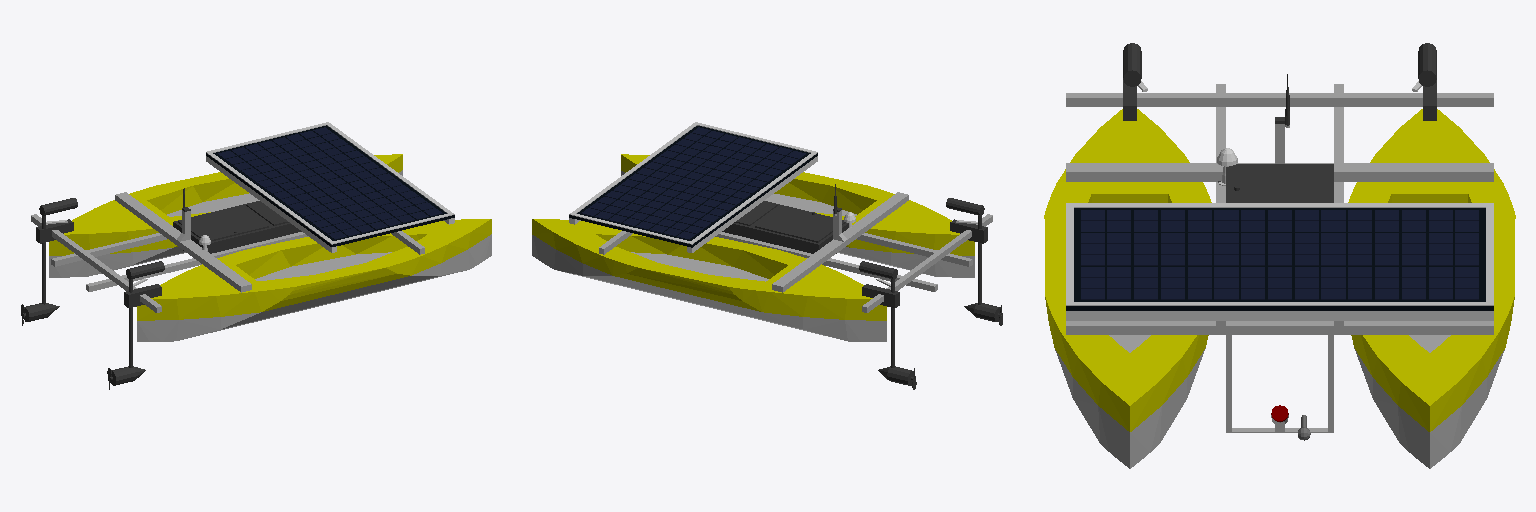
robot.urdf — squirtle:
<?xml version="1.0"?>

<robot name="squirtle">
	
	<!-- <link name="base_station">
		<visual>
			<origin xyz="74 137 5" rpy="0 0 0" />
			<geometry>
				<box size="0.001 0.001 0.001" />
			</geometry>
		</visual>
	</link> -->
	
	<!-- base_footprint is a fictitious link(frame) that is on the ground right below base_link origin, navigation stack depends on this frame -->
	<link name="base_footprint">
		<visual>
			<origin xyz="0 0 0" rpy="0 0 0" />
			<geometry>
				<box size="0.001 0.001 0.001" />
			</geometry>
		</visual>
	</link>
	
	<!-- Links and Joints (i.e., the robot) -->
	<link name="base_link">
		<visual>
			<origin xyz="0 0 0" rpy="0 0 0" />
			<geometry>
				<mesh filename="package://squirtle_description/meshes/squirtle.dae"/>
			</geometry>
		</visual>
	</link>
	
	<joint name="base_footprint_base_link_joint" type="fixed">
		<parent link="base_footprint"/>
		<child link="base_link" />
		<origin xyz="0 0 0" rpy="0 0 0" />
	</joint>
	
 	<link name="left_motor">
		<visual>
			<origin xyz="0 0 0" rpy="0 0 0" />
			<geometry>
				<mesh filename="package://squirtle_description/meshes/left_motor.dae"/>
			</geometry>
		</visual>
	</link>
	
	<!-- left motor joint -->
	<joint name="left_motor_joint" type="continuous">
		<parent link="base_link"/>
		<child link="left_motor"/>
		<origin xyz="-1 0.56 0.31" rpy="0 0 0" />
		<axis xyz="0 0 1" />
	</joint>
        
	<link name="right_motor">
		<visual>
			<origin xyz="0 0 0" rpy="0 0 0" />
			<geometry>
				<mesh filename="package://squirtle_description/meshes/right_motor.dae"/>
			</geometry>
			
		</visual>
	</link>
	
	<!-- right motor joint -->
	<joint name="right_motor_joint" type="continuous">
		<parent link="base_link"/>
		<child link="right_motor"/>
		<origin xyz="-1 -0.56 0.31" rpy="0 0 0" />
		<axis xyz="0 0 1" />
	</joint>
	
	<!-- sonar -->
	<link name="sonar">
		<visual>
			<origin xyz="0 0 0" rpy="0 0 0" />
			<geometry>
				<box size="0.001 0.001 0.001" />
			</geometry>
		</visual>
	</link>
	
	<joint name="sonar_joint" type="fixed">
		<parent link="base_link"/>
		<child link="sonar"/>
		<origin xyz="1.01175 0.0 -0.12125" rpy="0.7853 0 1.57079" />
	</joint>
	
	<link name="cyclops">
		<visual>
			<origin xyz="0 0 0" rpy="0 0 0" />
			<geometry>
				<box size="0.001 0.001 0.001" />
			</geometry>
		</visual>
	</link>
	
	<!-- cyclops chemical sensor joint -->
	<joint name="cyclops_joint" type="fixed">
		<parent link="base_link"/>
		<child link="cyclops"/>
		<origin xyz="1.065 0.09 -0.175" rpy="0 0 0" />
	</joint>

	<link name="gps">
		<visual>
			<origin xyz="0 0 0" rpy="0 0 0" />
			<geometry>
				<mesh filename="package://squirtle_description/meshes/gps_antenna.dae"/>
			</geometry>
		</visual>
	</link>
	
	<joint name="gps_joint" type="fixed">
		<parent link="base_link"/>
		<child link="gps"/>
		<origin xyz="-0.24 -0.2 0.25" rpy="0 0 0" />
	</joint>
	
	<link name="imu">
		<visual>
			<origin xyz="0 0 0" rpy="0 0 0" />
			<geometry>
				<box size="0.001 0.001 0.001" />
			</geometry>
		</visual>
	</link>
	
	<!-- imu joint -->
	<joint name="imu_joint" type="fixed">
		<parent link="base_link"/>
		<child link="imu"/>
		<origin xyz="-0.50 0.0 0.25" rpy="0 0 0" />
	</joint>
        
</robot>

--- Facts derived from the render (not from the file) ---
3 views of the same robot in one strip: view 1: azimuth 30°, elevation 25°; view 2: azimuth 150°, elevation 25°; view 3: azimuth 270°, elevation 25° (orthographic).
Model squirtle with 8 links and 7 joints (2 continuous, 5 fixed), rooted at base_footprint, posed all joints at 0.
Links seen in each view (by area): view 1: base_link, left_motor, right_motor; view 2: base_link, right_motor, left_motor; view 3: base_link, left_motor, right_motor.
Link boxes in pixels (box(x1,y1,x2,y2)): base_link: box(31, 122, 491, 341); left_motor: box(21, 198, 77, 325); right_motor: box(107, 261, 164, 389); base_link: box(532, 122, 992, 341); right_motor: box(946, 198, 1002, 325); left_motor: box(859, 261, 916, 389); base_link: box(1044, 74, 1515, 468); left_motor: box(1412, 43, 1436, 91); right_motor: box(1123, 43, 1147, 91).
Size in the robot's own frame: 2.85 by 1.79 by 1.04 metres.
Meshes: 4 distinct files referenced, 4 mesh visuals loaded (4 Collada DAE).
